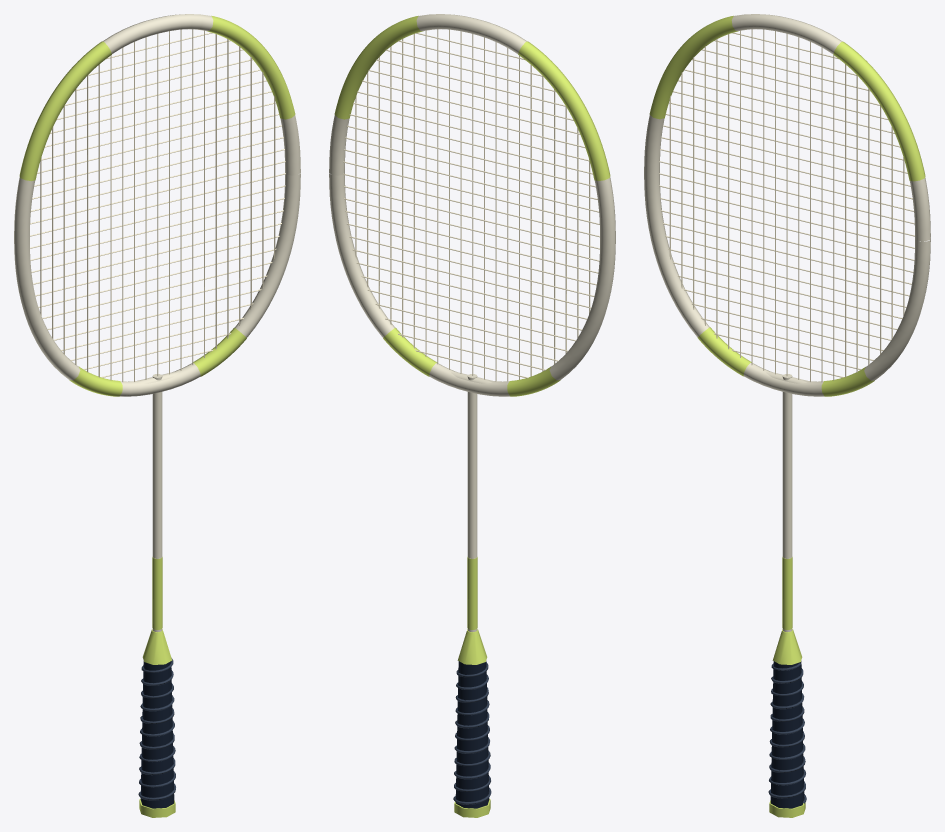
File: racket.glb
The picture shows the model from 3 angles, left to right: view 1: azimuth 30°, elevation 25°; view 2: azimuth 150°, elevation 25°; view 3: azimuth 330°, elevation 25°; orthographic projection.
Parts seen in each view (by area): view 1: strings:string, frame:silver, frame:lime, grip:dark, shaft:silver, grip:wrap, grip:lime, shaft:lime; view 2: strings:string, frame:silver, frame:lime, grip:dark, shaft:silver, grip:wrap, grip:lime, shaft:lime; view 3: strings:string, frame:silver, frame:lime, grip:dark, shaft:silver, grip:wrap, grip:lime, shaft:lime.
Part boxes in pixels (x1,y1,x2,y2): strings:string: [30, 29, 285, 381]; frame:silver: [14, 14, 300, 396]; frame:lime: [19, 15, 295, 396]; grip:dark: [140, 661, 174, 808]; shaft:silver: [152, 374, 162, 631]; grip:wrap: [138, 658, 175, 800]; grip:lime: [139, 629, 175, 817]; shaft:lime: [152, 557, 162, 629]; strings:string: [343, 29, 599, 381]; frame:silver: [329, 14, 615, 396]; frame:lime: [334, 15, 610, 396]; grip:dark: [455, 661, 489, 808]; shaft:silver: [467, 374, 477, 631]; grip:wrap: [453, 662, 491, 804]; grip:lime: [454, 629, 490, 817]; shaft:lime: [467, 557, 477, 629]; strings:string: [659, 29, 914, 381]; frame:silver: [644, 14, 930, 396]; frame:lime: [649, 15, 925, 396]; grip:dark: [770, 661, 804, 808]; shaft:silver: [782, 374, 792, 631]; grip:wrap: [768, 663, 806, 803]; grip:lime: [769, 629, 805, 817]; shaft:lime: [782, 557, 792, 629].
Bounding box in the file's own units: 1.98 × 5.25 × 0.2275.
